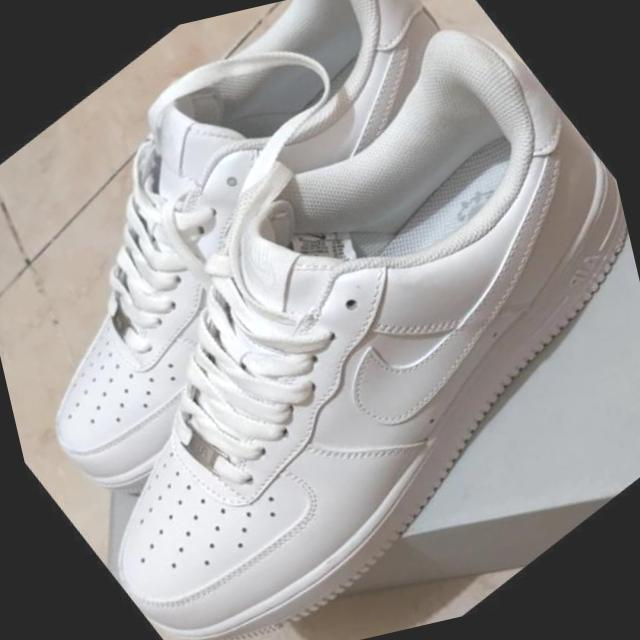nike_original_airforce: (0, 0, 640, 640), (0, 0, 610, 532)
